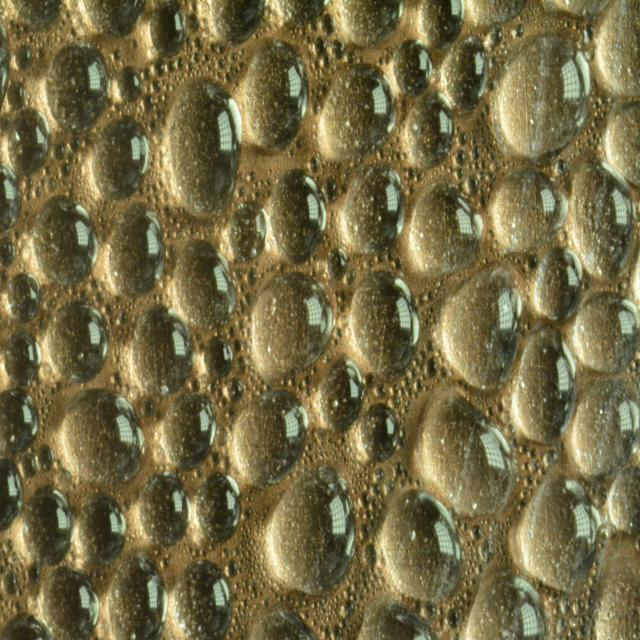dr: (161, 74, 242, 224), (269, 462, 358, 598), (496, 34, 591, 160), (420, 392, 515, 517), (440, 260, 522, 391), (518, 468, 599, 593), (249, 271, 336, 384), (380, 489, 465, 604), (232, 388, 310, 491), (512, 326, 578, 445), (63, 390, 146, 484), (319, 64, 398, 162), (351, 270, 421, 378), (573, 158, 635, 278), (242, 38, 309, 148), (408, 182, 484, 278), (570, 378, 640, 480), (32, 191, 100, 287), (173, 236, 239, 330), (131, 303, 195, 398), (492, 172, 568, 252), (342, 162, 406, 255), (46, 42, 109, 136), (465, 569, 547, 640), (108, 202, 164, 300), (92, 114, 154, 202), (272, 169, 328, 265), (47, 300, 110, 385), (574, 293, 640, 374), (110, 552, 168, 640), (173, 558, 234, 640), (593, 0, 640, 99), (162, 388, 218, 469), (41, 564, 100, 640), (22, 484, 75, 567), (405, 88, 456, 174), (139, 470, 192, 548), (441, 32, 490, 113), (532, 246, 583, 322), (318, 355, 365, 435), (76, 493, 126, 567), (196, 468, 242, 546), (603, 95, 640, 190), (335, 0, 404, 49), (355, 600, 437, 640), (8, 106, 51, 178), (208, 0, 270, 49), (0, 388, 41, 454), (81, 0, 146, 41), (360, 401, 401, 463), (246, 605, 317, 640), (228, 198, 268, 260), (608, 460, 640, 536), (418, 0, 466, 49), (394, 37, 433, 97), (3, 329, 42, 385), (150, 2, 187, 60), (0, 458, 25, 532), (8, 271, 41, 322), (0, 611, 51, 640), (202, 336, 234, 380), (118, 66, 143, 106), (6, 78, 27, 112), (327, 246, 348, 280), (33, 442, 54, 474), (15, 43, 34, 72), (228, 374, 243, 404), (314, 32, 328, 60)
